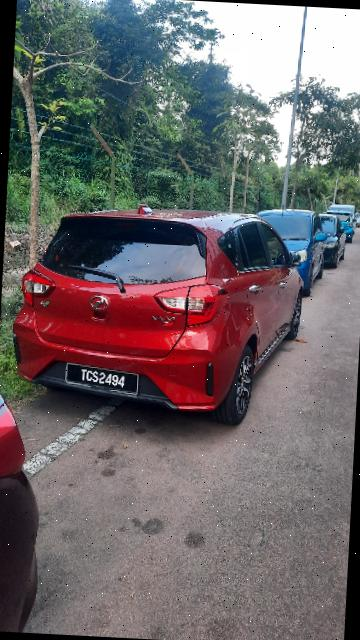License_Plate: (63, 361, 146, 398)
car: (4, 194, 310, 434)
